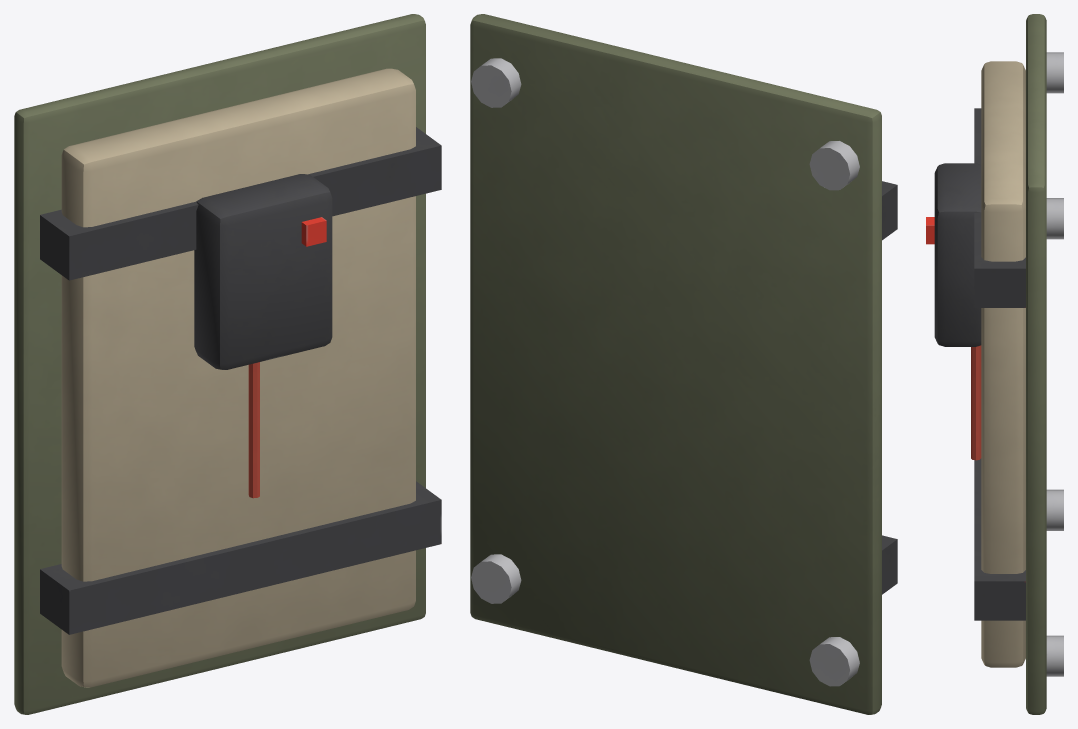
File: SM_BreachCharge.fbx
3 renders of one model, left to right at view 1: azimuth 30°, elevation 25°; view 2: azimuth 150°, elevation 25°; view 3: azimuth 270°, elevation 25°, orthographic. The views are drawn at different scales.
Parts seen in each view (by area): view 1: SM_BreachCharge; view 2: SM_BreachCharge; view 3: SM_BreachCharge.
Part boxes in pixels (box(x1,y1,x2,y2)): SM_BreachCharge: box(14, 14, 441, 714); SM_BreachCharge: box(470, 14, 897, 714); SM_BreachCharge: box(926, 14, 1063, 714).
Size of what is drawn, in the model's own units: 0.24 by 0.34 by 0.08.
1 material, 1 textured.
